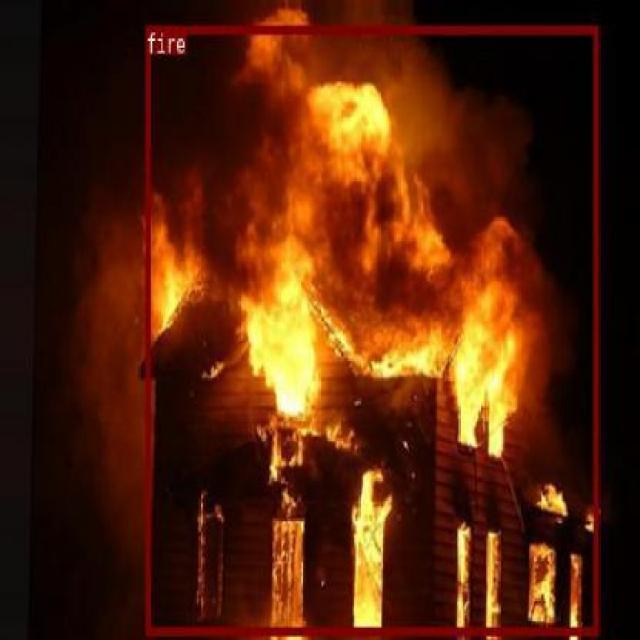Fire: (144, 24, 598, 633)
